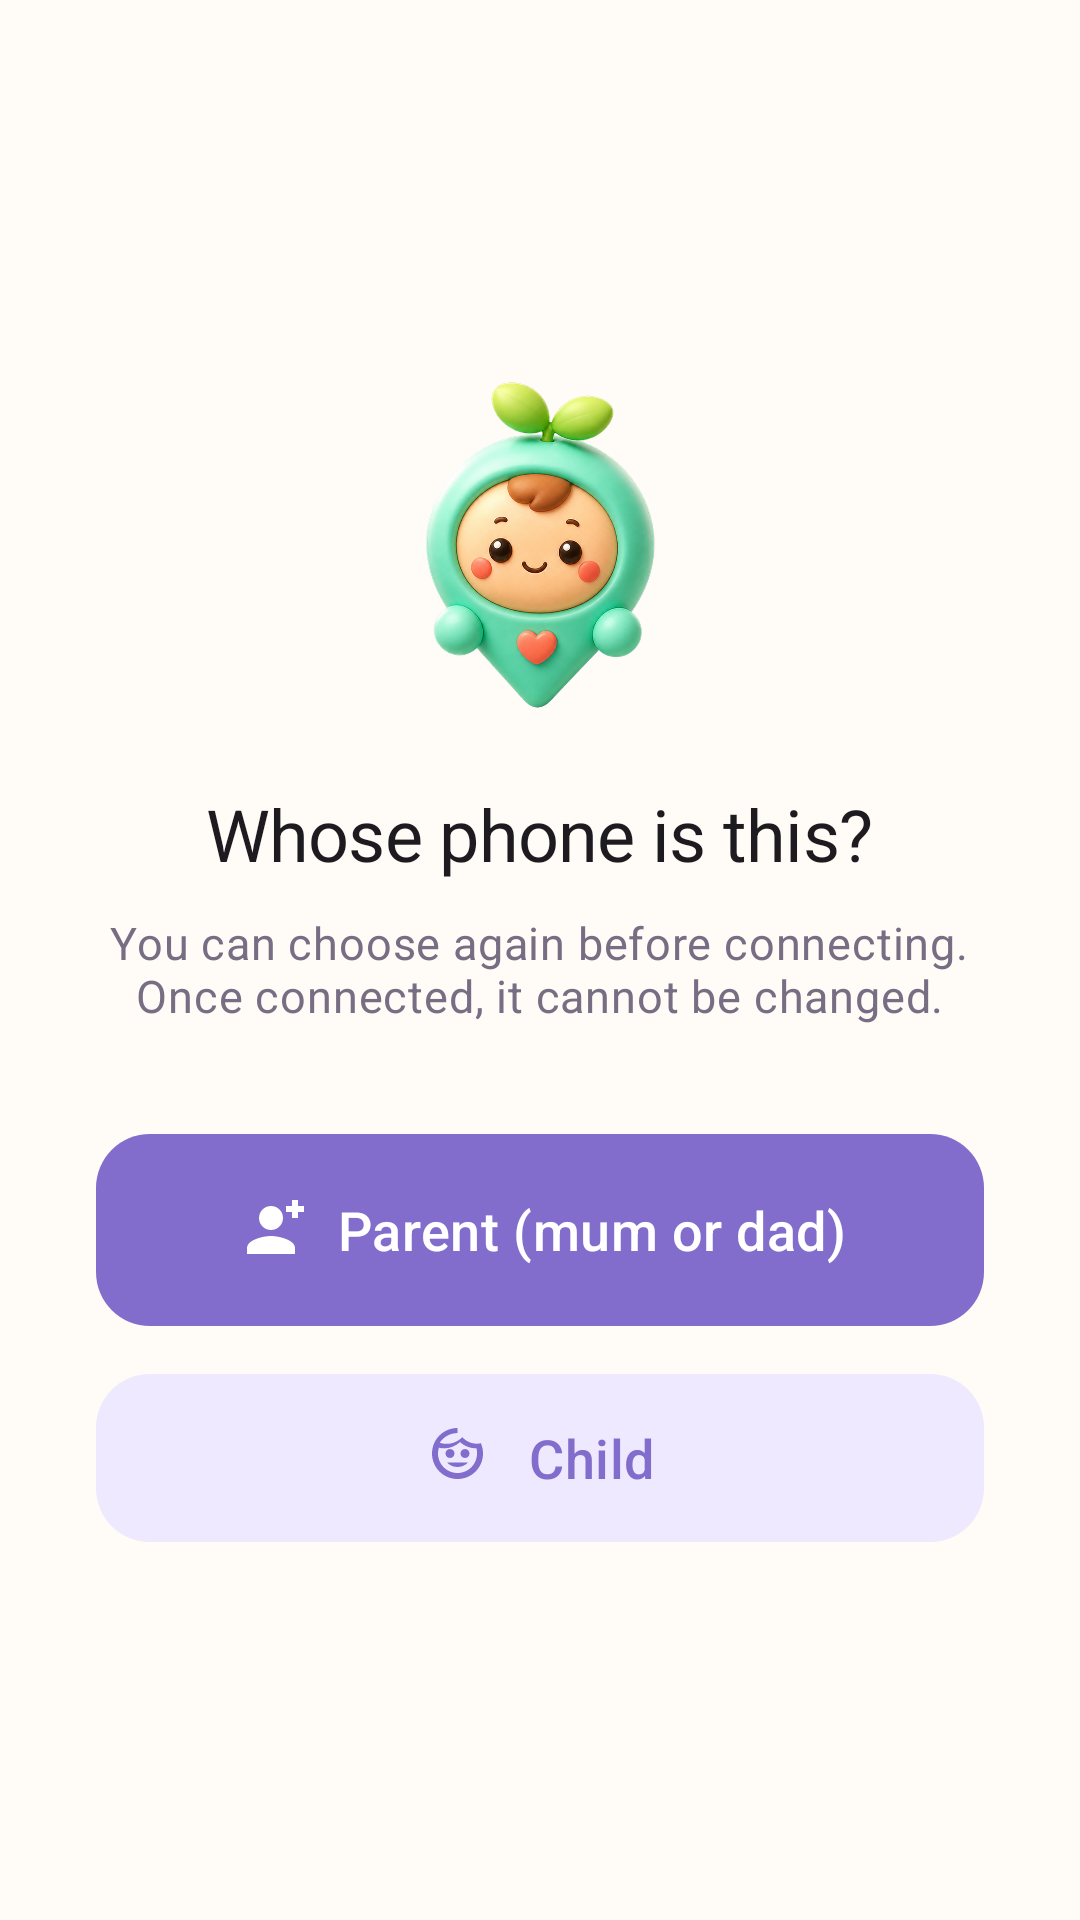

Named icons in this screenshot (1080x1920) and their bounding boxes, (x1, y1, x2, y2):
mascot 3d: (426, 382, 655, 708)
